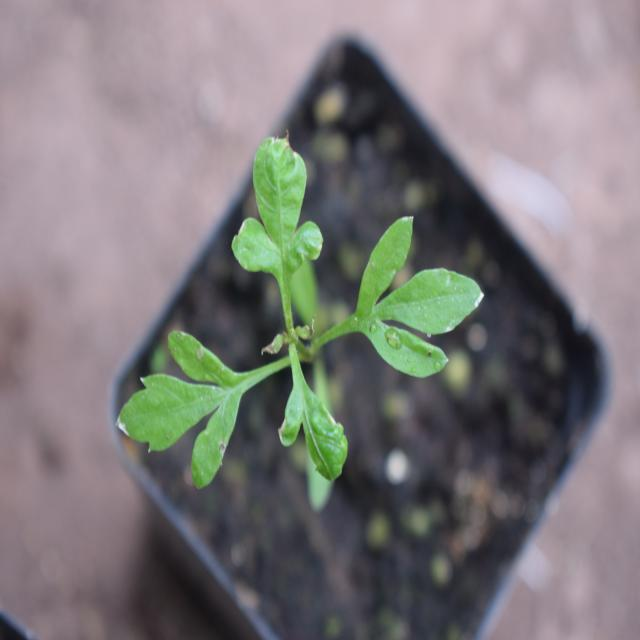Bidens pilosa: (120, 139, 473, 516)
